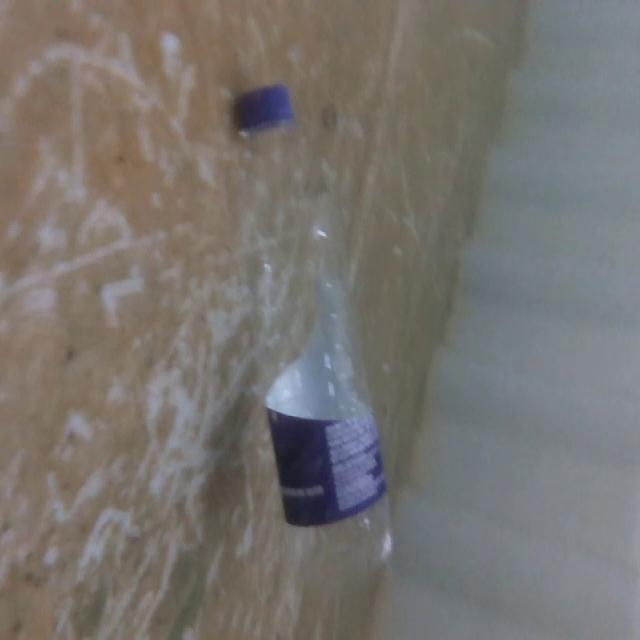plastic bottle: (222, 74, 404, 584)
